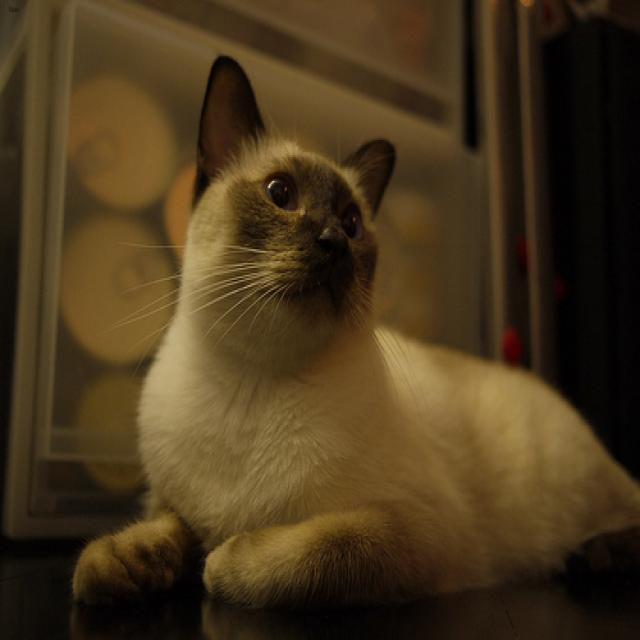Siamese: (191, 55, 393, 324)
